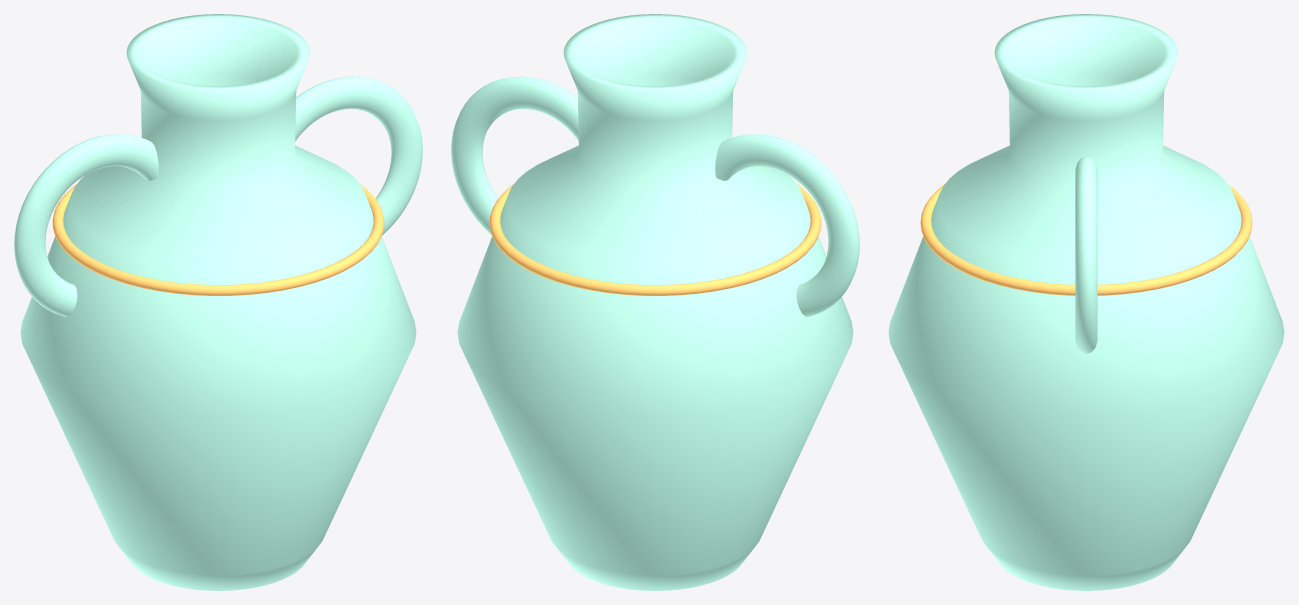
File: celadon_vase.glb
3 views of the same model, side by side, from view 1: azimuth 30°, elevation 25°; view 2: azimuth 150°, elevation 25°; view 3: azimuth 270°, elevation 25° (orthographic).
Visible parts, largest first — view 1: celadon_vase; view 2: celadon_vase; view 3: celadon_vase.
Part boxes in pixels (bbox=[...]): celadon_vase: bbox=[14, 14, 422, 590]; celadon_vase: bbox=[451, 14, 859, 590]; celadon_vase: bbox=[888, 14, 1284, 590].
Size of the model in its own units: 0.332 by 0.39 by 0.28.
